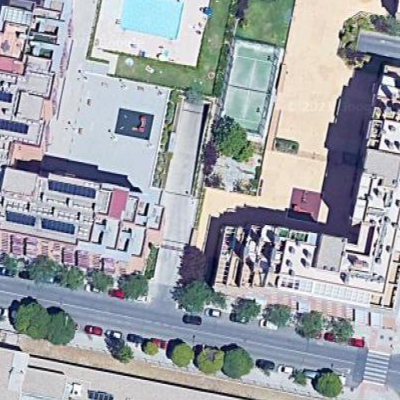tree: (172, 280, 227, 318), (213, 118, 258, 163), (10, 299, 49, 339), (177, 241, 215, 281), (222, 343, 256, 379), (311, 365, 347, 399), (52, 305, 80, 347), (228, 294, 263, 327), (297, 307, 326, 343), (118, 272, 151, 301), (28, 255, 58, 286), (331, 311, 356, 346), (263, 300, 293, 329), (195, 344, 222, 374), (87, 266, 114, 293), (58, 264, 85, 290), (110, 339, 137, 365), (169, 341, 192, 368), (2, 248, 23, 276), (140, 341, 159, 357)
